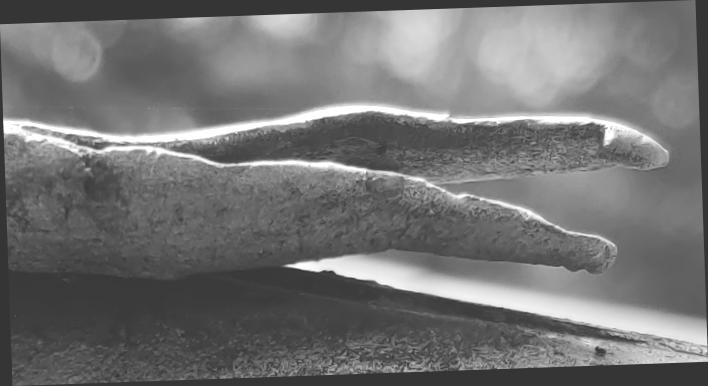crack: (1, 1, 708, 386)
